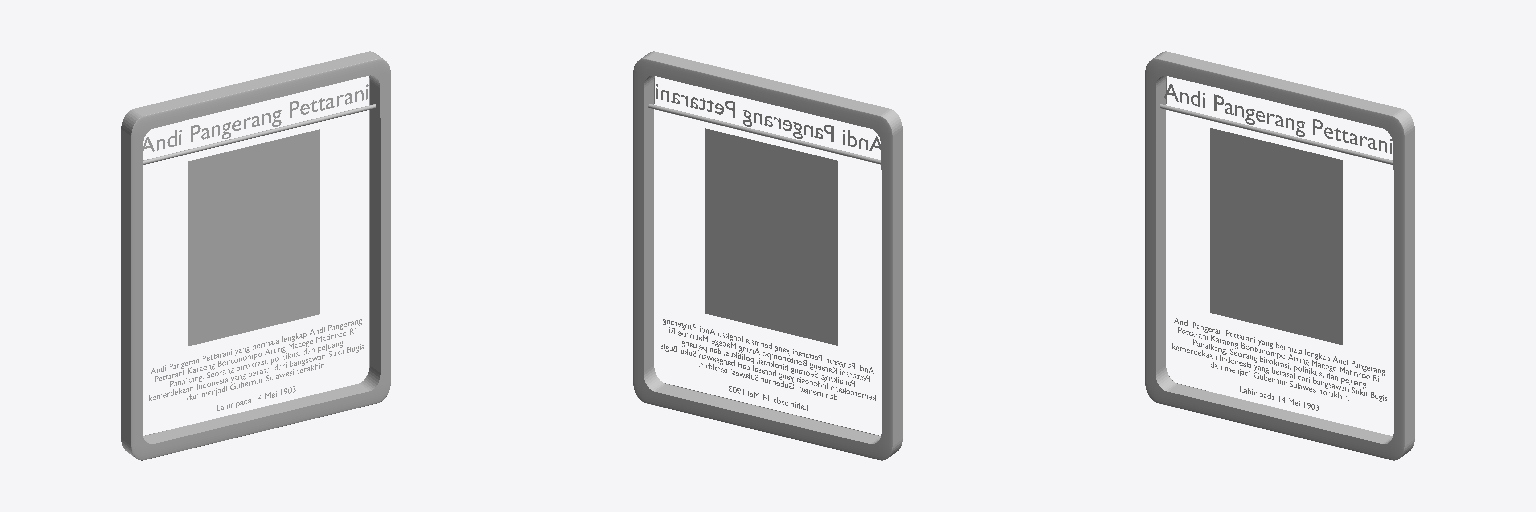
File: pettarani.obj
3 views of the same model, side by side, from view 1: azimuth 30°, elevation 25°; view 2: azimuth 150°, elevation 25°; view 3: azimuth 330°, elevation 25° (orthographic).
Parts seen in each view (by area): view 1: Cube.001_Cube.002, 1._Andi_Pangeran_Pettarani_Plane, Text.001, Text, Cylinder; view 2: Cube.001_Cube.002, 1._Andi_Pangeran_Pettarani_Plane, Text.001, Text, Cylinder; view 3: Cube.001_Cube.002, 1._Andi_Pangeran_Pettarani_Plane, Text.001, Text, Cylinder.
Part boxes in pixels (x1,y1,x2,y2): Cube.001_Cube.002: (121,51,390,460); 1._Andi_Pangeran_Pettarani_Plane: (188,129,319,345); Text.001: (149,319,363,410); Text: (143,84,368,151); Cylinder: (143,104,375,164); Cube.001_Cube.002: (633,51,902,460); 1._Andi_Pangeran_Pettarani_Plane: (705,128,837,345); Text.001: (661,319,875,410); Text: (656,84,880,150); Cylinder: (648,104,880,164); Cube.001_Cube.002: (1145,51,1414,460); 1._Andi_Pangeran_Pettarani_Plane: (1210,128,1342,344); Text.001: (1172,318,1386,410); Text: (1164,84,1391,153); Cylinder: (1160,104,1392,164).
Bounding box in the file's own units: 2 × 2.54 × 0.1466.